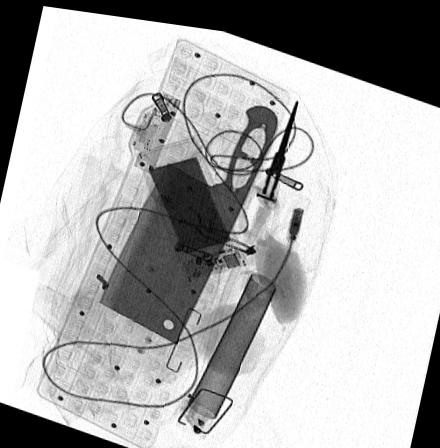Knife: (98, 98, 276, 337)
Powerbank: (133, 129, 246, 277)
Scissors: (235, 89, 300, 235)
